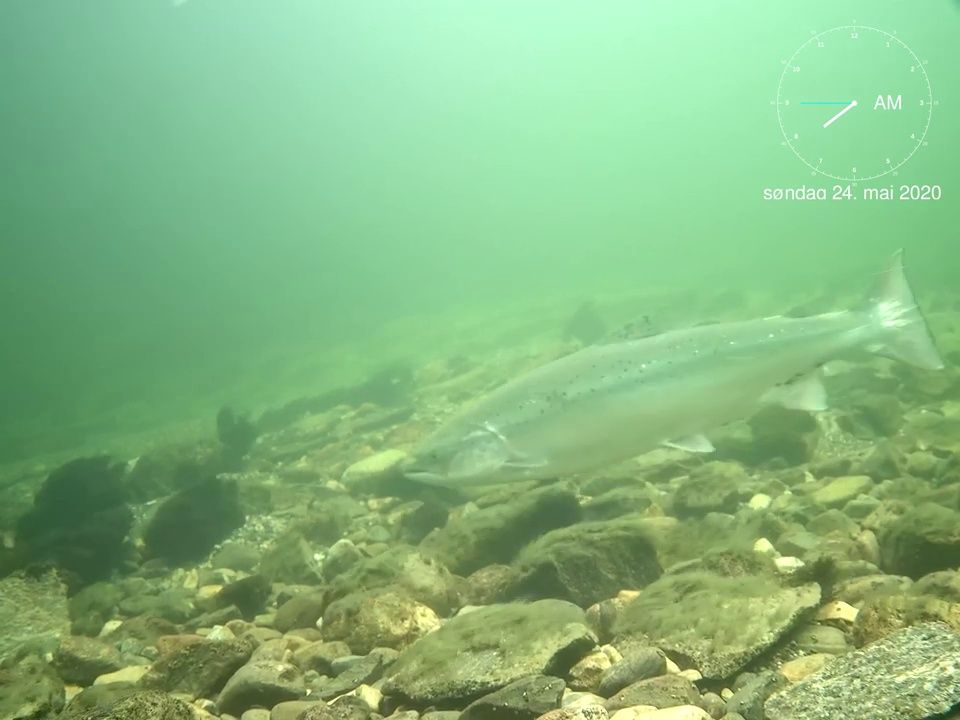salmon: (398, 244, 947, 491)
